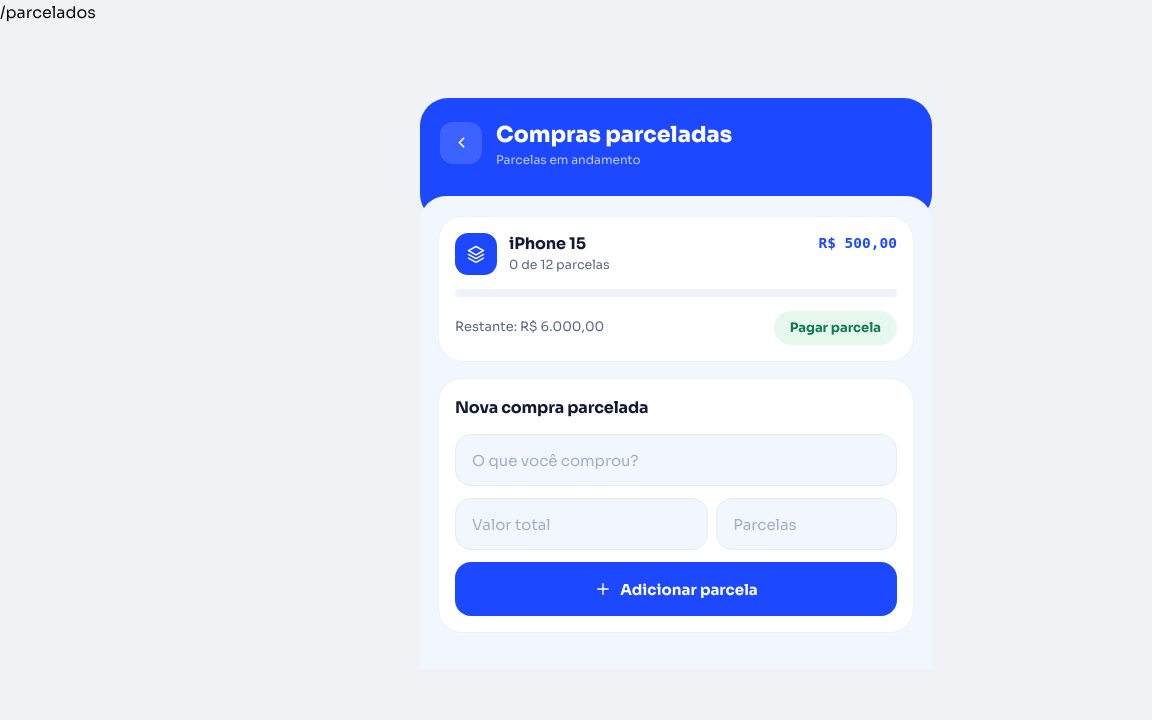
Test: Parcelados — remover › só remove depois de confirmar
Click the button "iPhone 15 0 de 12 parcelas R$ 500,00": (476, 254) [455,233,897,275]
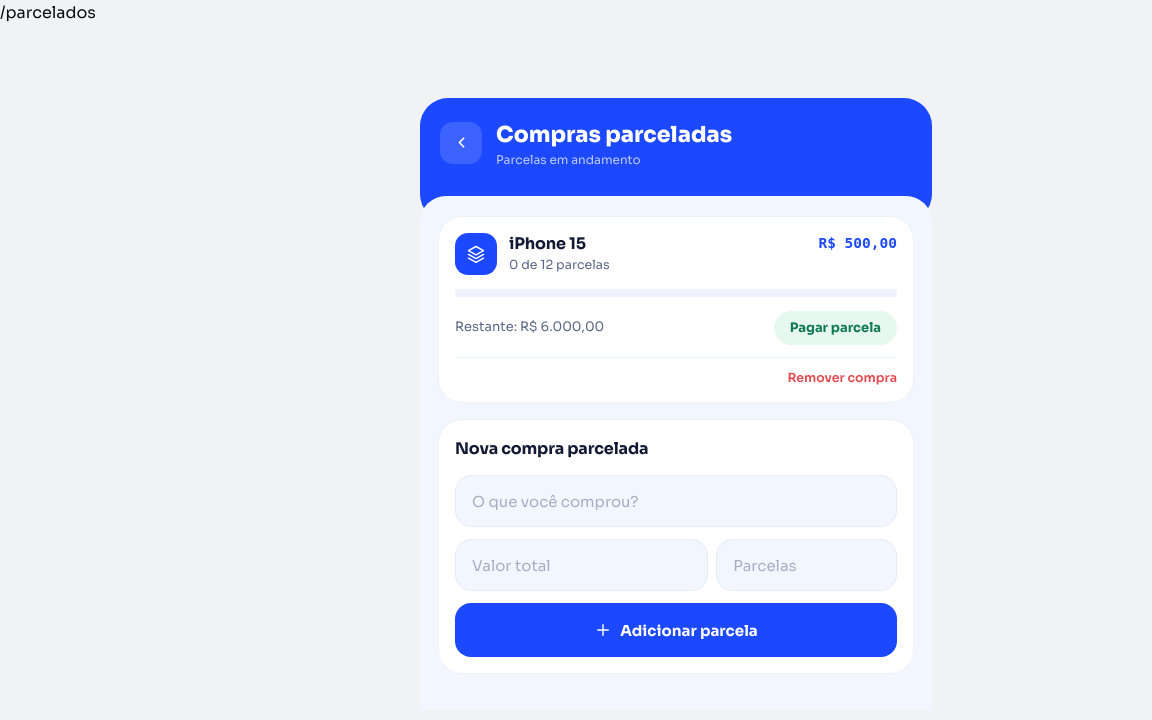
Click the button titled "Remover": (842, 378) [787,370,897,386]
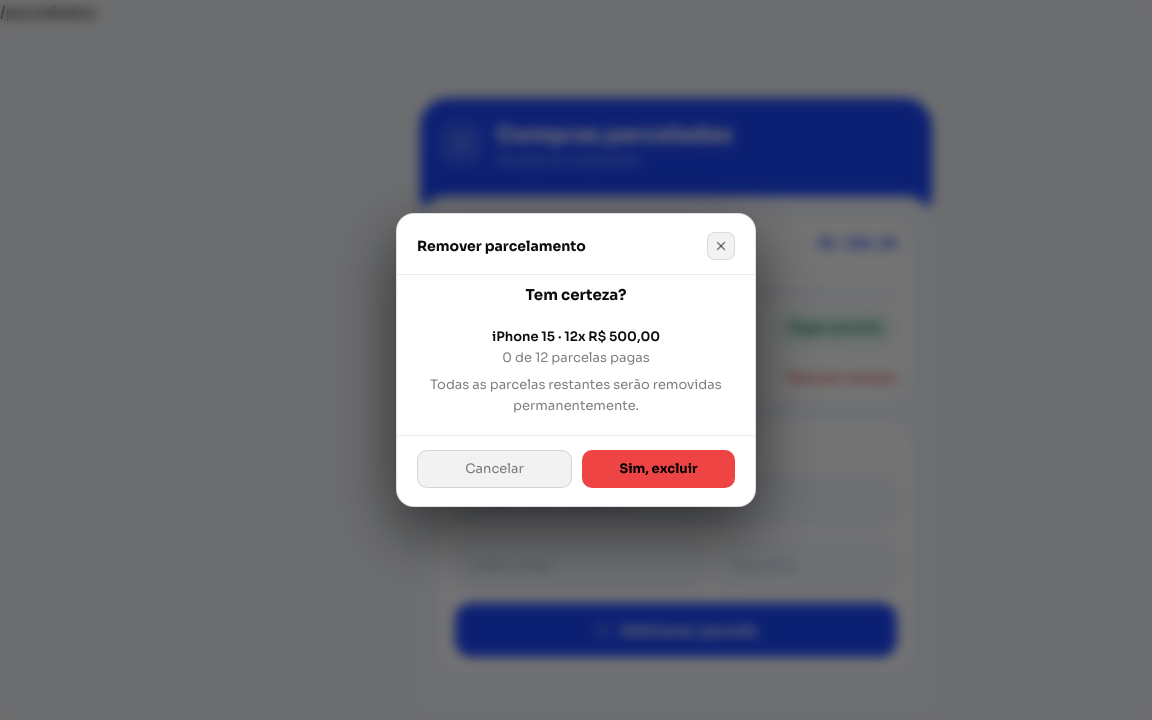
Click the button "Sim, excluir": (658, 469) [582,450,735,488]
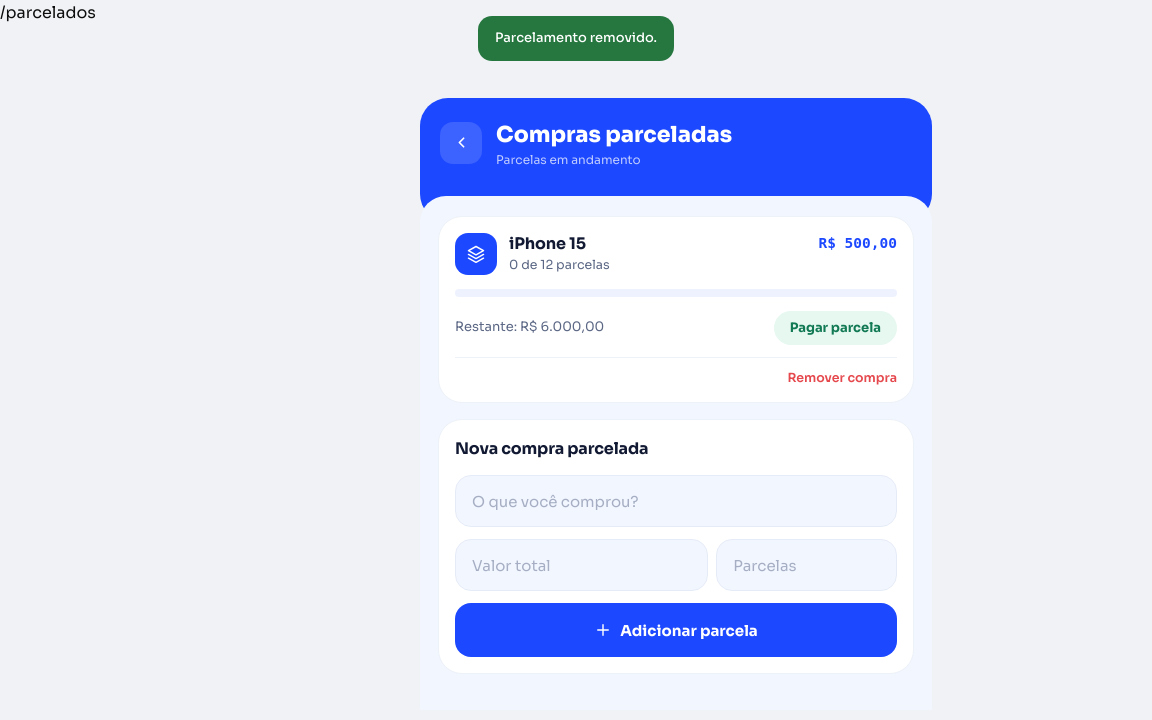
Check: the text "Parcelamento removido." is shown, box [478,16,674,61]
